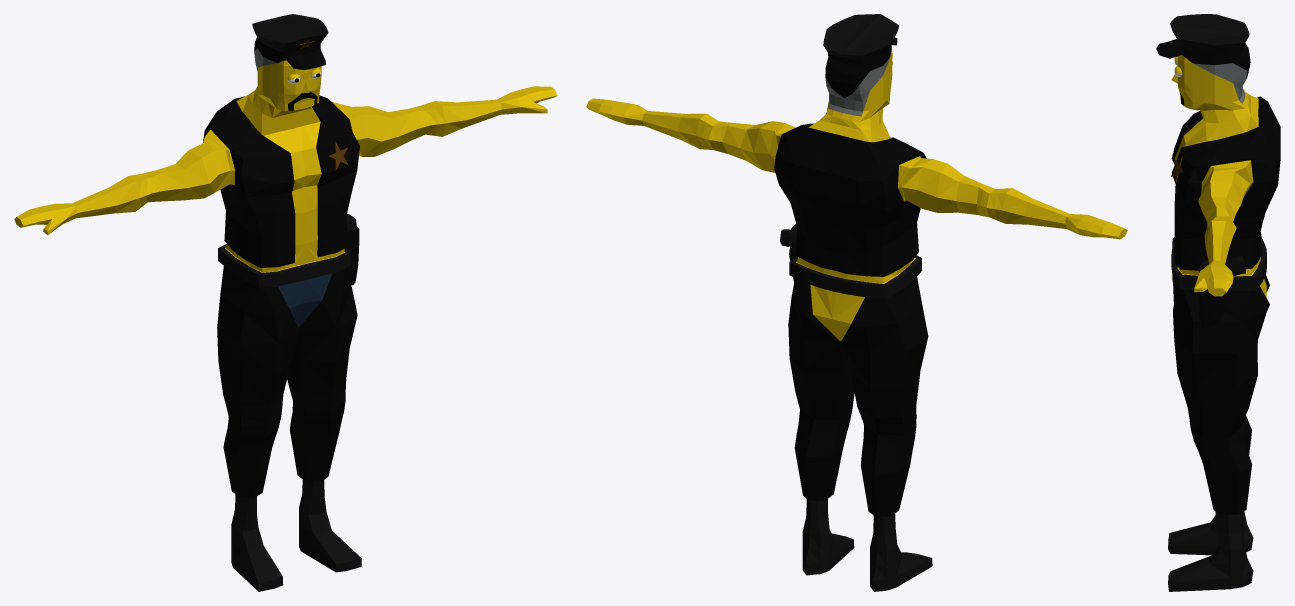
The model's file is Bofia.fbx.
3 renders of one model, left to right at view 1: azimuth 30°, elevation 25°; view 2: azimuth 150°, elevation 25°; view 3: azimuth 270°, elevation 25°, orthographic.
Parts seen in each view (by area): view 1: Bofia; view 2: Bofia; view 3: Bofia.
Part boxes in pixels (<box>): Bofia: <box>14,14,557,591</box>; Bofia: <box>586,14,1127,591</box>; Bofia: <box>1156,14,1280,591</box>.
Size of the model in its own units: 1.8 by 1.74 by 0.3623.
